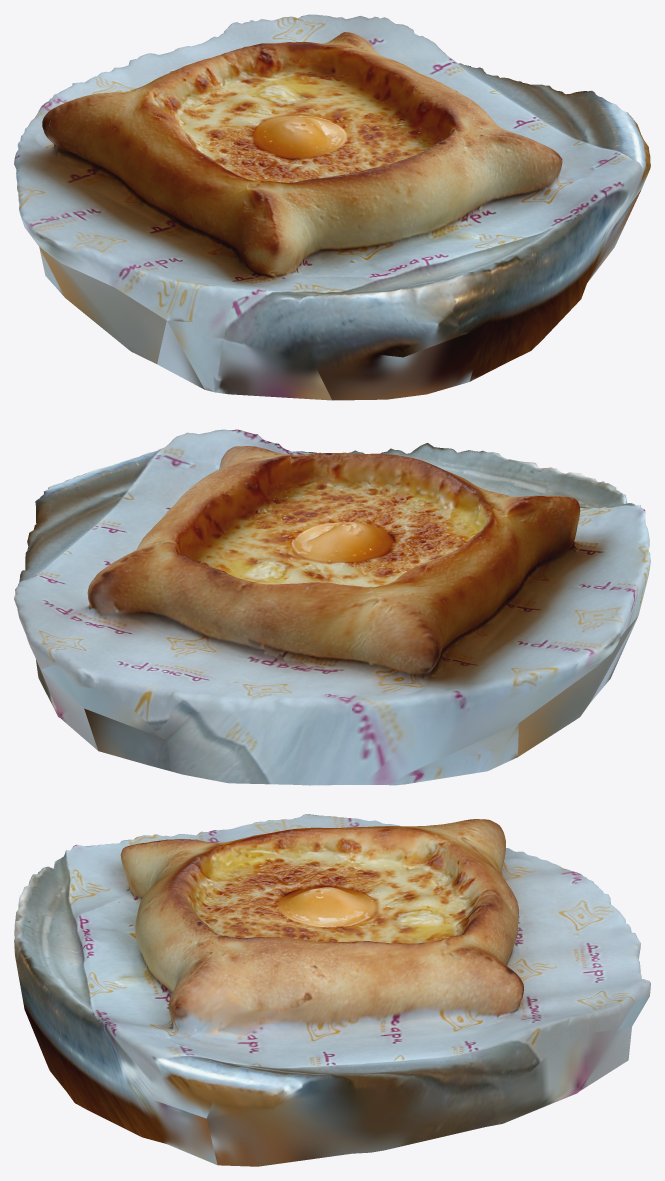
The model's file is adjaruli-khachapuri.glb.glb.
The picture shows the model from 3 angles, top to bottom: view 1: azimuth 30°, elevation 25°; view 2: azimuth 150°, elevation 25°; view 3: azimuth 270°, elevation 25°; orthographic projection. The views are drawn at different scales.
Parts seen in each view (by area): view 1: Object_2; view 2: Object_2; view 3: Object_2.
Part boxes in pixels (left/top/right/bottom): Object_2: left=14, top=14, right=650, bottom=400; Object_2: left=14, top=429, right=650, bottom=785; Object_2: left=14, top=814, right=650, bottom=1166.
Size of the model in its own units: 0.2075 by 0.0613 by 0.2005.
1 material, 1 textured.
